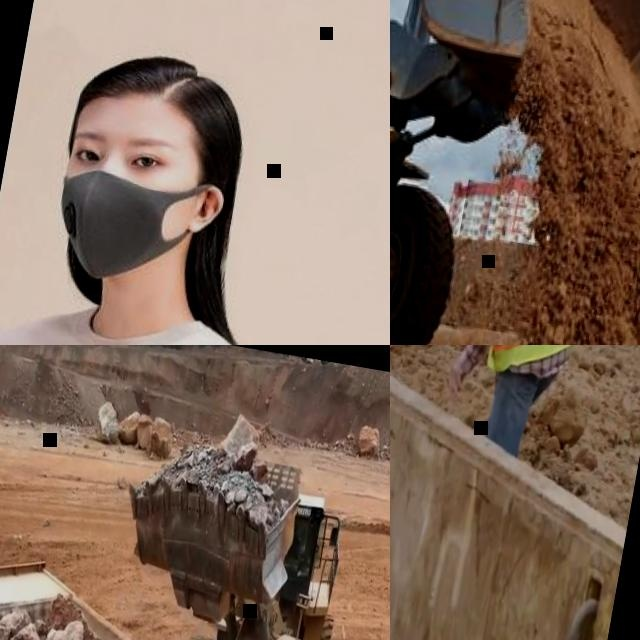Mask: (44, 158, 224, 300)
NO-Hardhat: (72, 34, 256, 149)
Person: (0, 21, 357, 345), (214, 0, 390, 345), (436, 345, 629, 458)
machinery: (390, 0, 640, 345), (76, 415, 366, 640), (0, 531, 232, 640)
